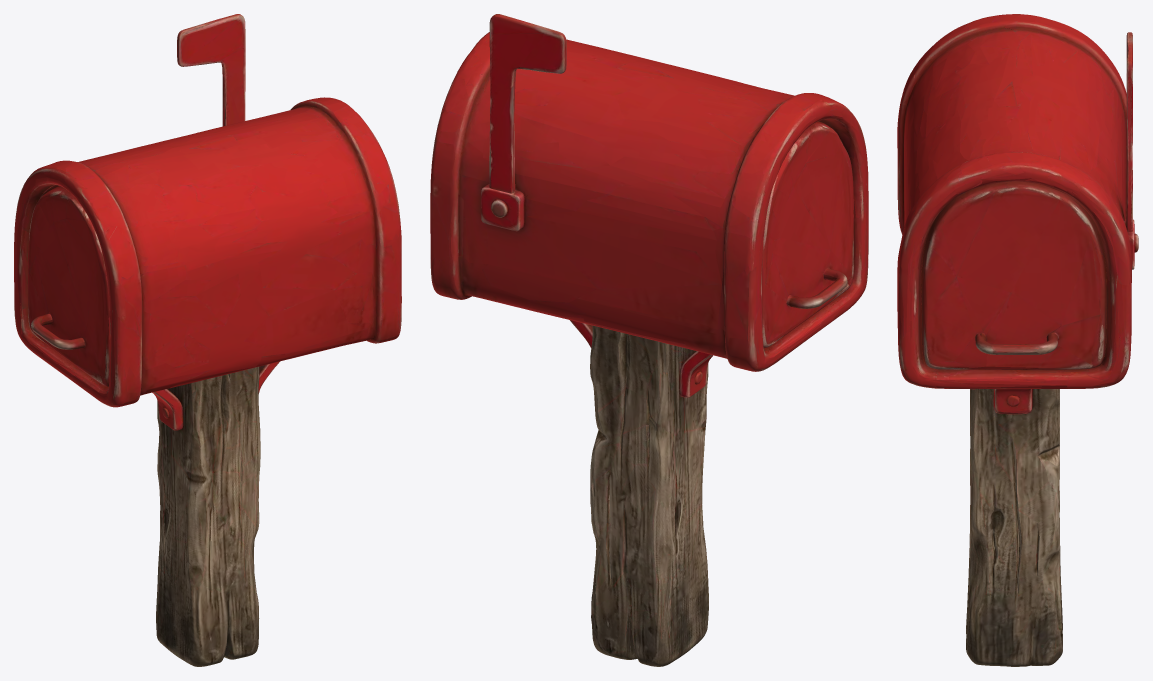
Rendered from mailbox.glb.
3 renders of one model, left to right at view 1: azimuth 30°, elevation 25°; view 2: azimuth 150°, elevation 25°; view 3: azimuth 270°, elevation 25°, orthographic. The views are drawn at different scales.
Parts seen in each view (by area): view 1: Mesh_0; view 2: Mesh_0; view 3: Mesh_0.
Part boxes in pixels (x1,y1,x2,y2): Mesh_0: (14, 14, 401, 666); Mesh_0: (430, 14, 868, 666); Mesh_0: (897, 14, 1138, 666).
Size of the model in its own units: 1.14 by 1.9 by 0.6546.
Materials: 1 (1 with a texture image).
